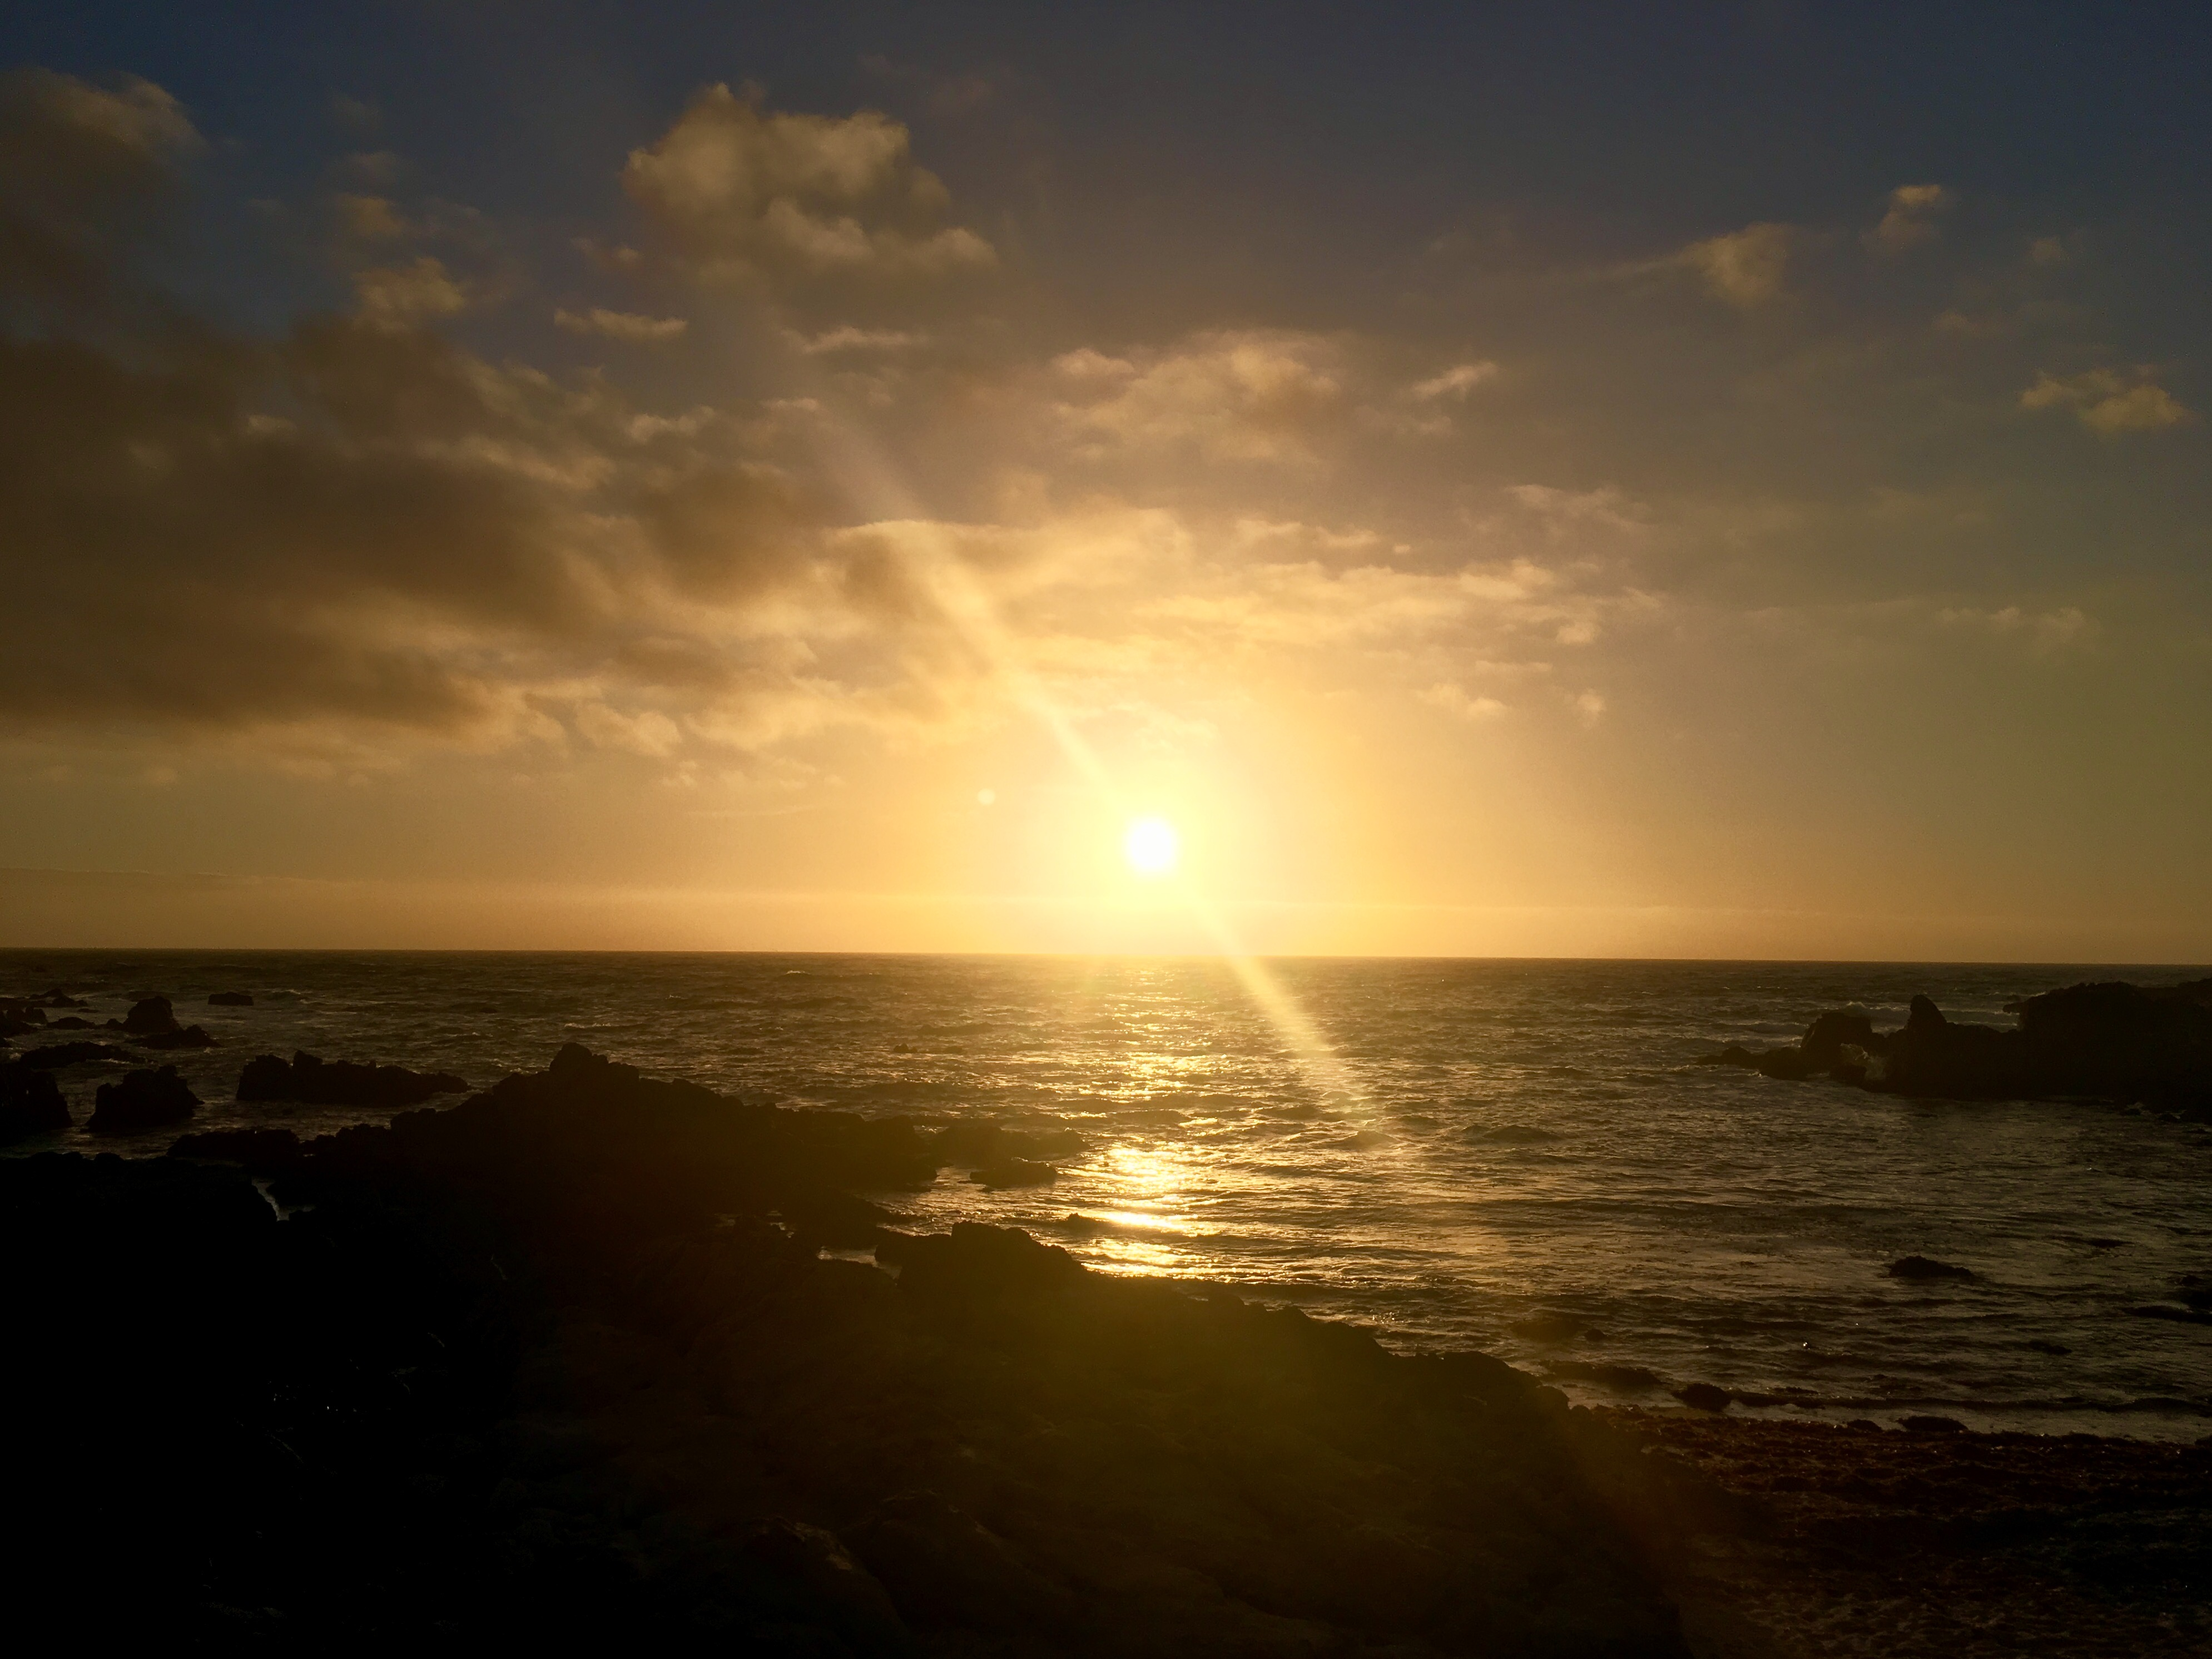flare: (977, 789, 996, 809)
